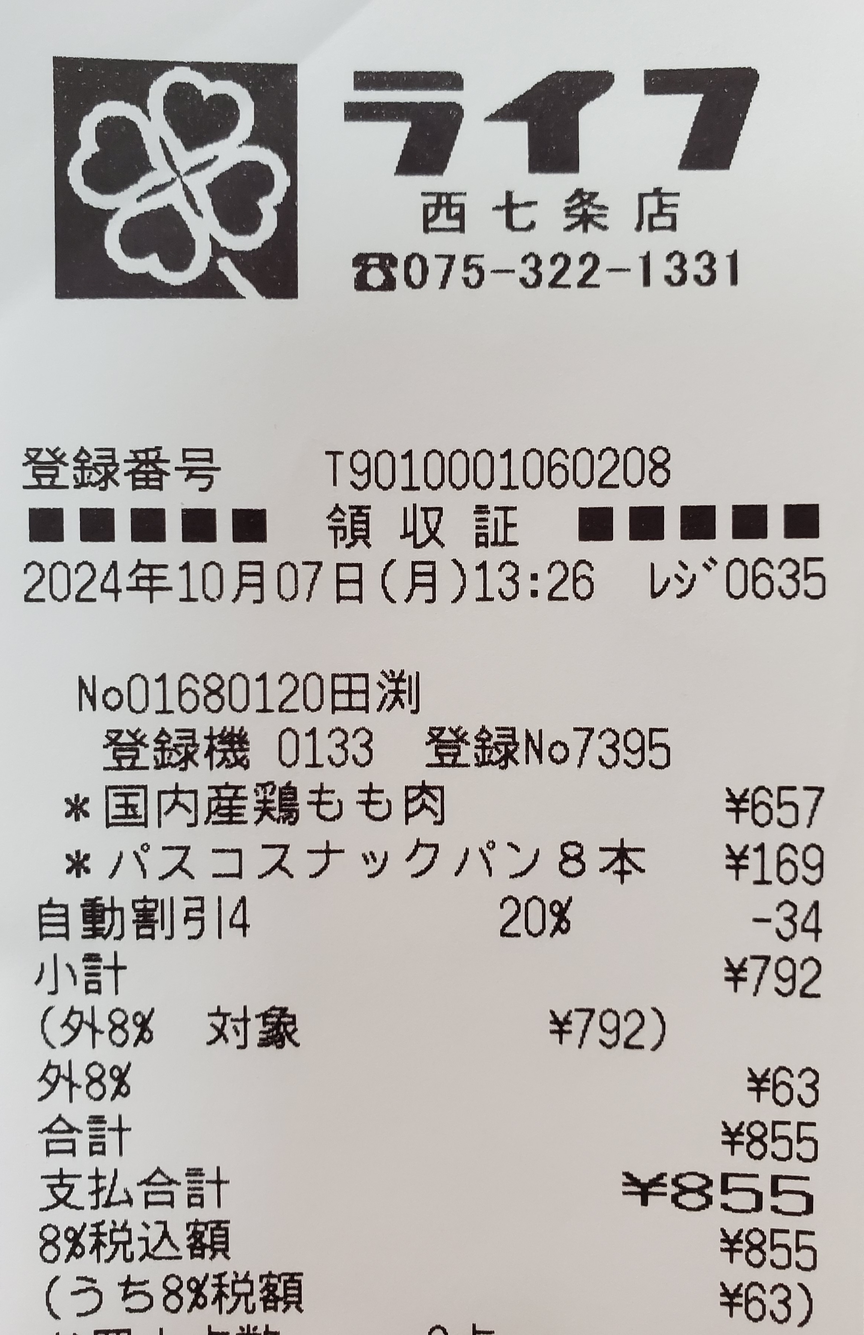Date: (15, 552, 378, 621)
Shopname: (339, 35, 772, 195)
Telnum: (400, 243, 766, 307)
Totalpay: (27, 1157, 855, 1226)
